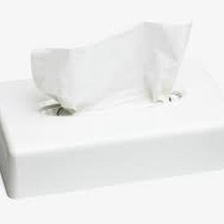plastic_box: (0, 61, 224, 204)
tissue: (22, 12, 203, 119)
